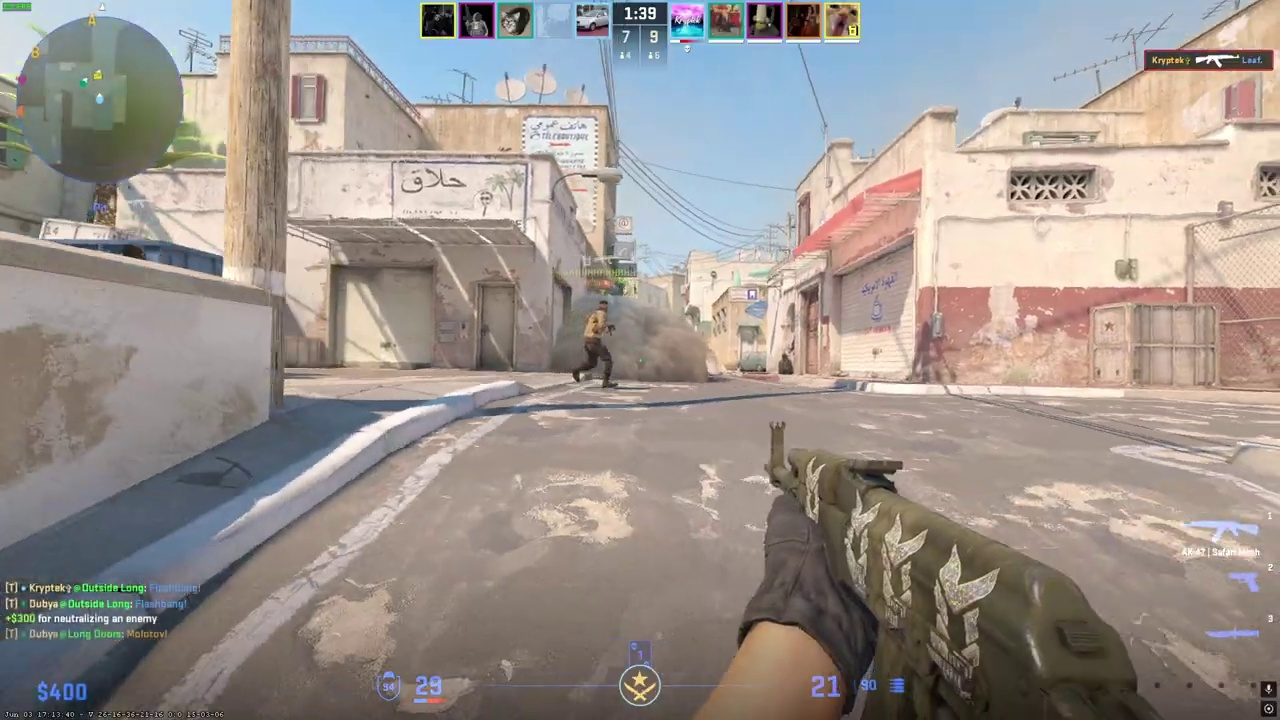Terrorist: (574, 300, 619, 387)
